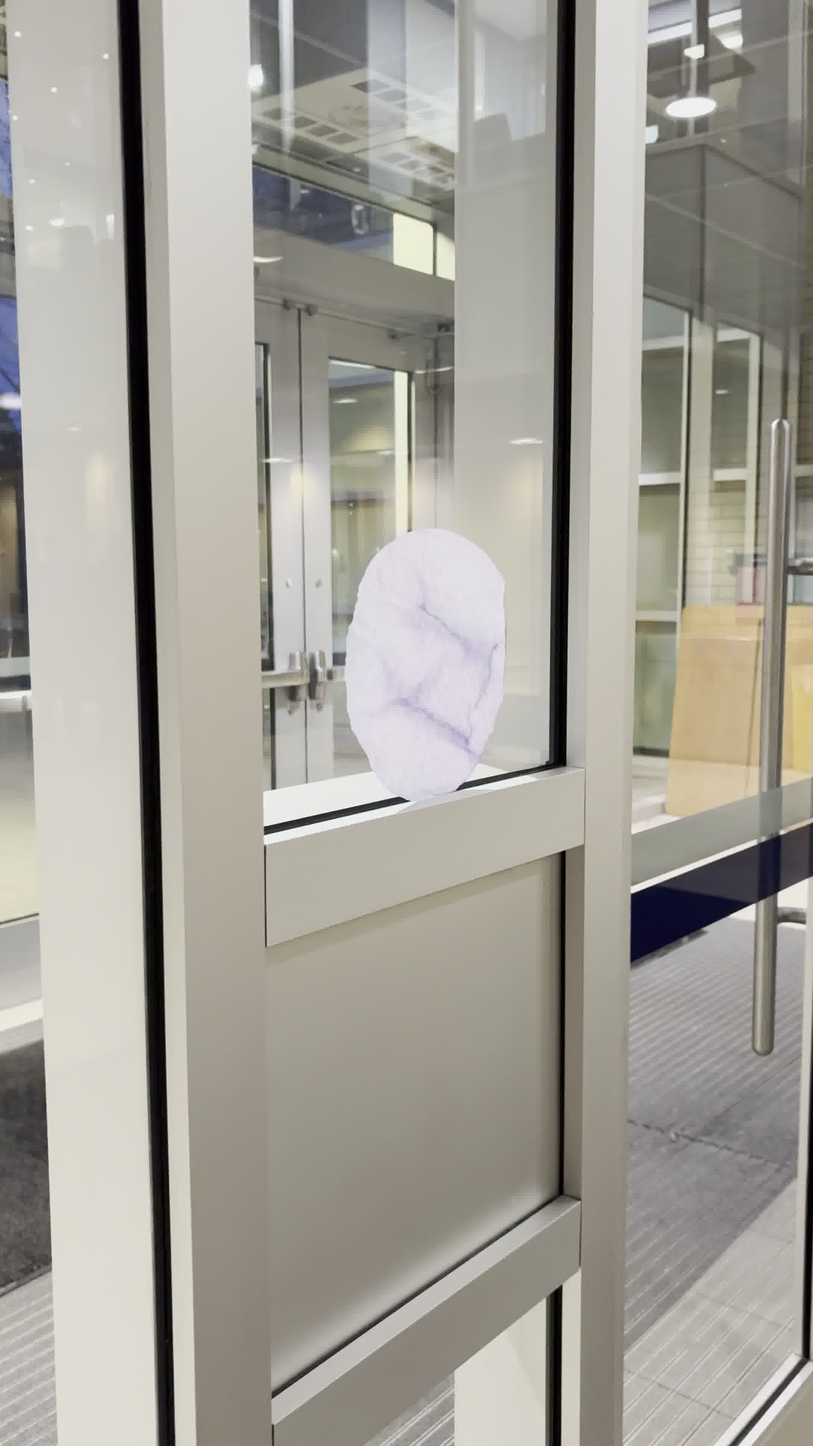Target: (344, 529, 507, 801)
